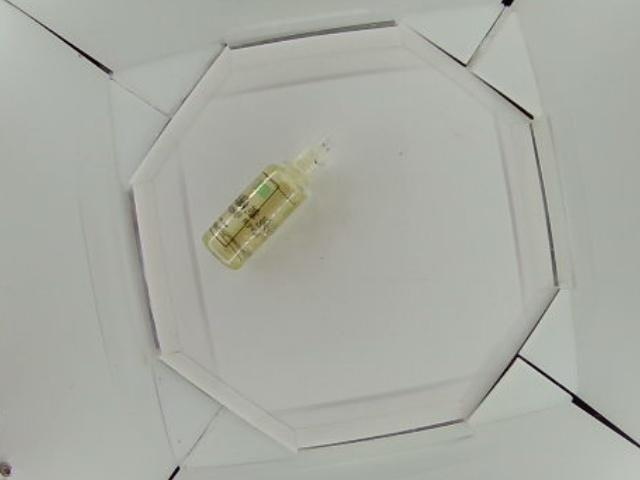Bottle: (198, 133, 335, 271)
